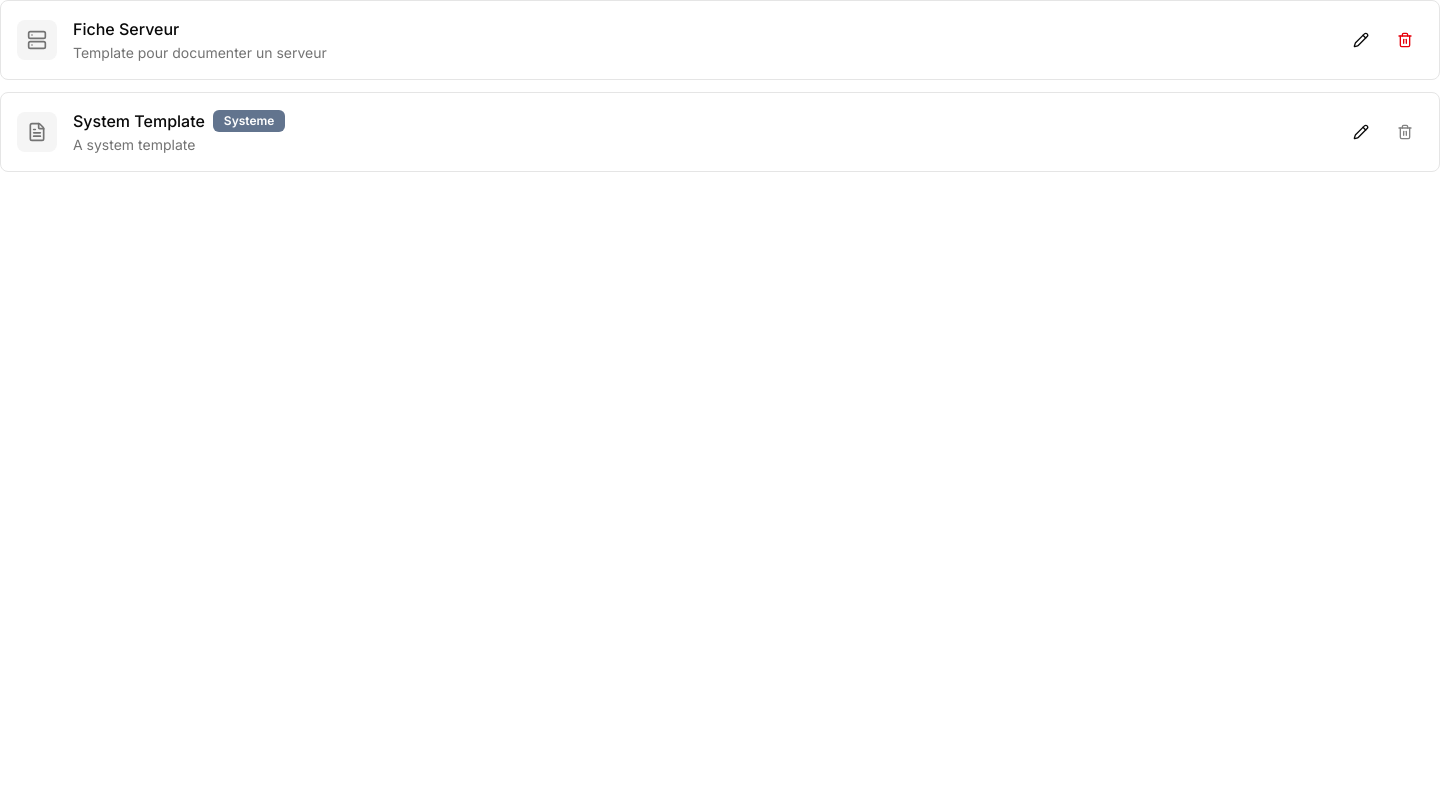
Test: TemplateList › closes dialog when cancel is clicked
Click the button named "Supprimer Fiche Serveur": (1405, 40) x1=1387 y1=22 x2=1423 y2=58
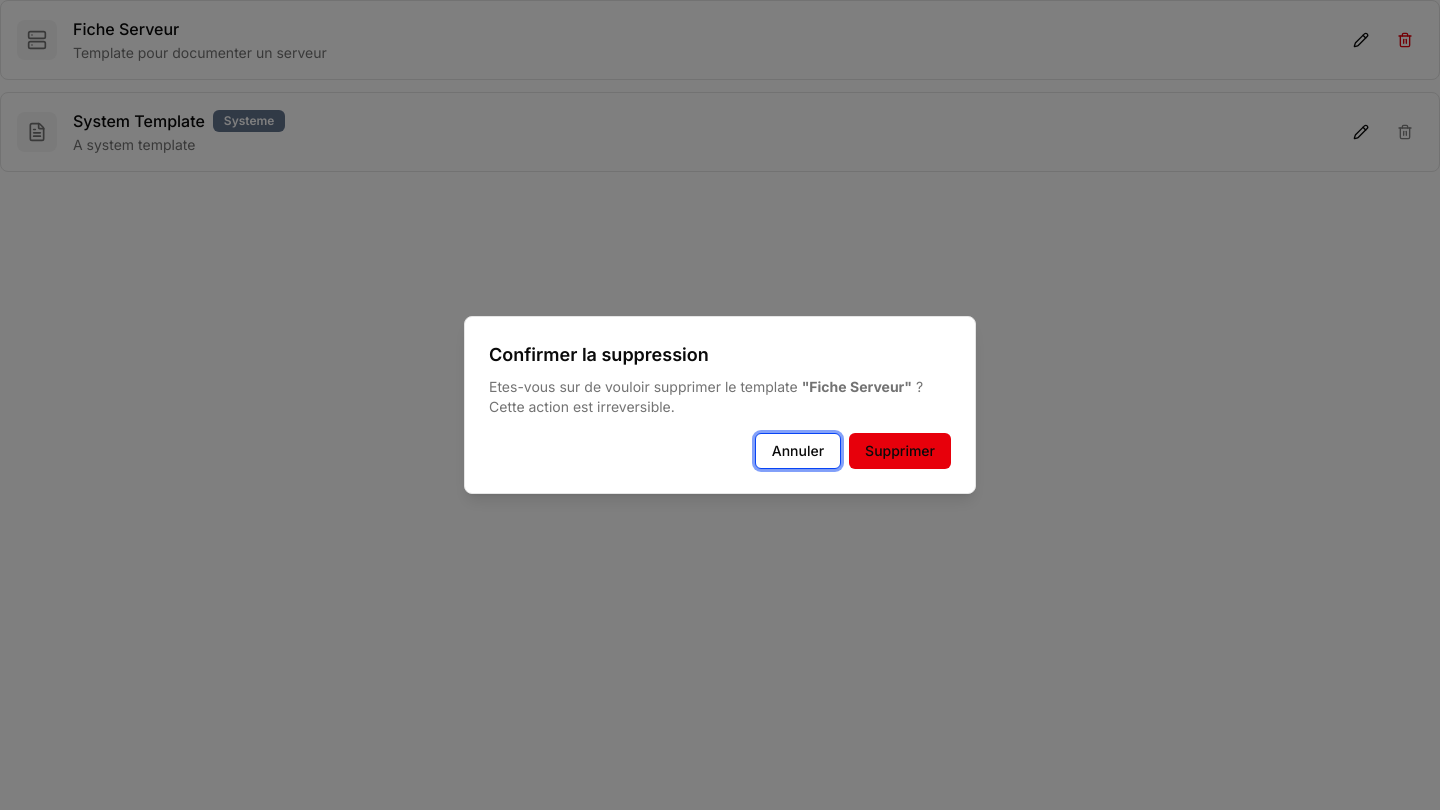
Expected: the heading "Confirmer la suppression" is shown, x1=489 y1=344 x2=709 y2=365
Click the button "Annuler": (798, 451) x1=755 y1=433 x2=841 y2=469
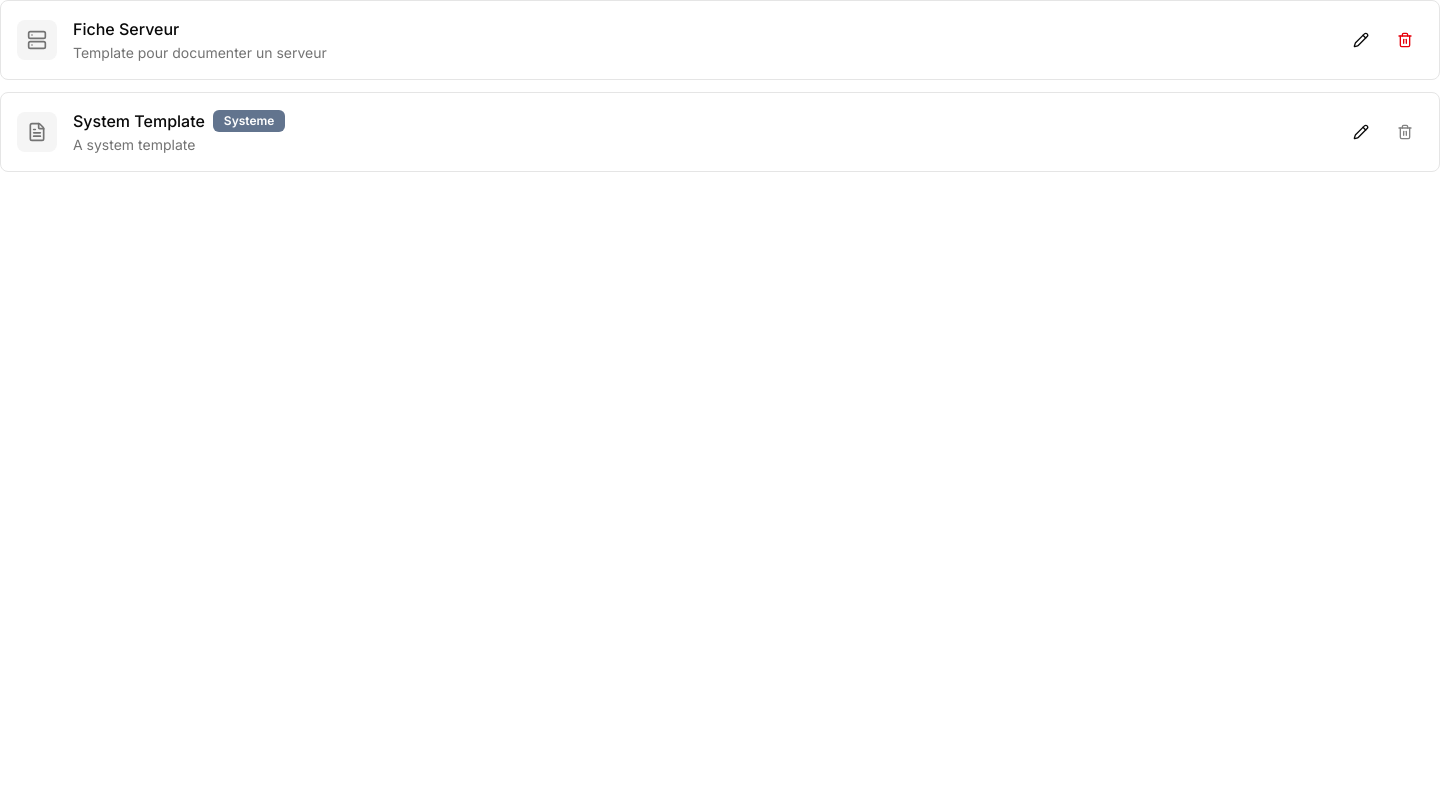
Expected: the heading "Confirmer la suppression" is gone
